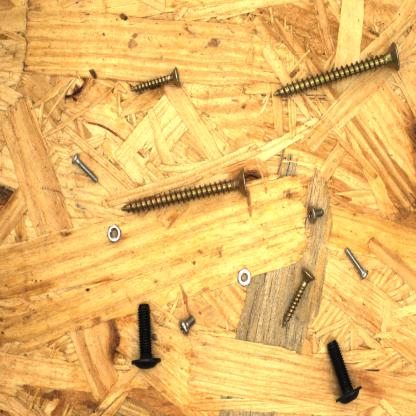screw: (271, 38, 404, 101), (118, 164, 252, 217), (324, 336, 365, 406), (280, 264, 318, 329), (131, 298, 164, 371), (130, 64, 184, 92), (343, 245, 372, 282), (70, 151, 100, 185), (178, 310, 198, 335), (306, 202, 325, 227)
